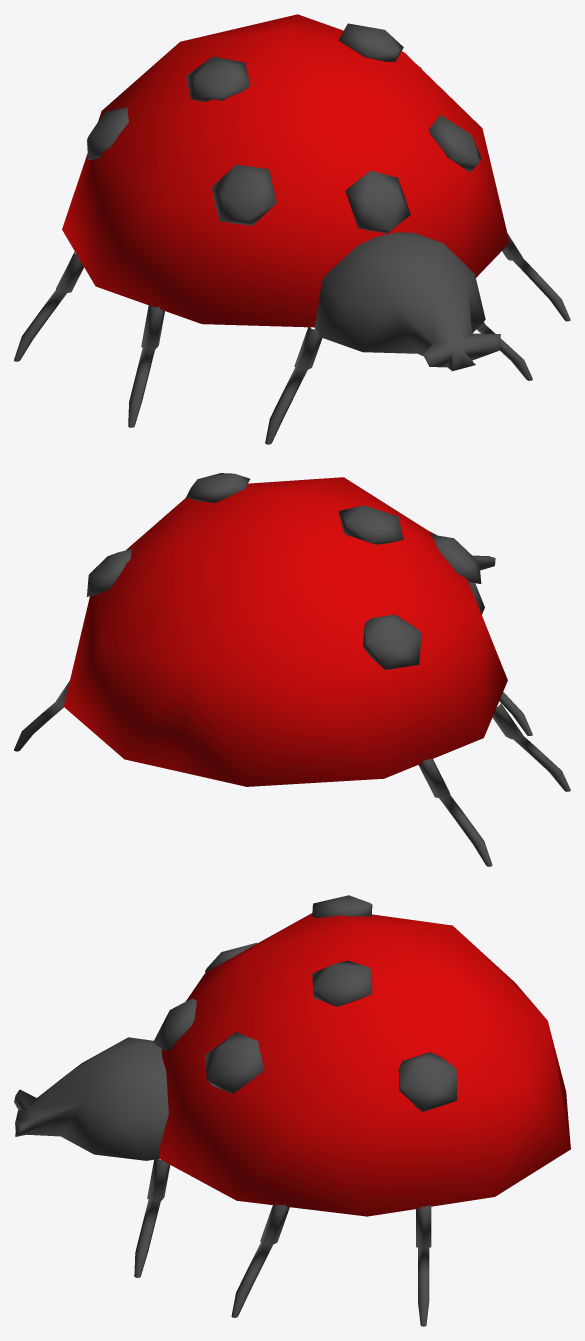
3 renders of one model, top to bottom at view 1: azimuth 30°, elevation 25°; view 2: azimuth 150°, elevation 25°; view 3: azimuth 270°, elevation 25°, orthographic. The views are drawn at different scales.
Visible parts, largest first — view 1: Symmetry; view 2: Symmetry; view 3: Symmetry.
Part boxes in pixels (x1,y1,x2,y2): Symmetry: (14, 14, 570, 444); Symmetry: (14, 473, 570, 866); Symmetry: (14, 895, 570, 1326).
Bounding box in the file's own units: 246 × 145 × 253.
